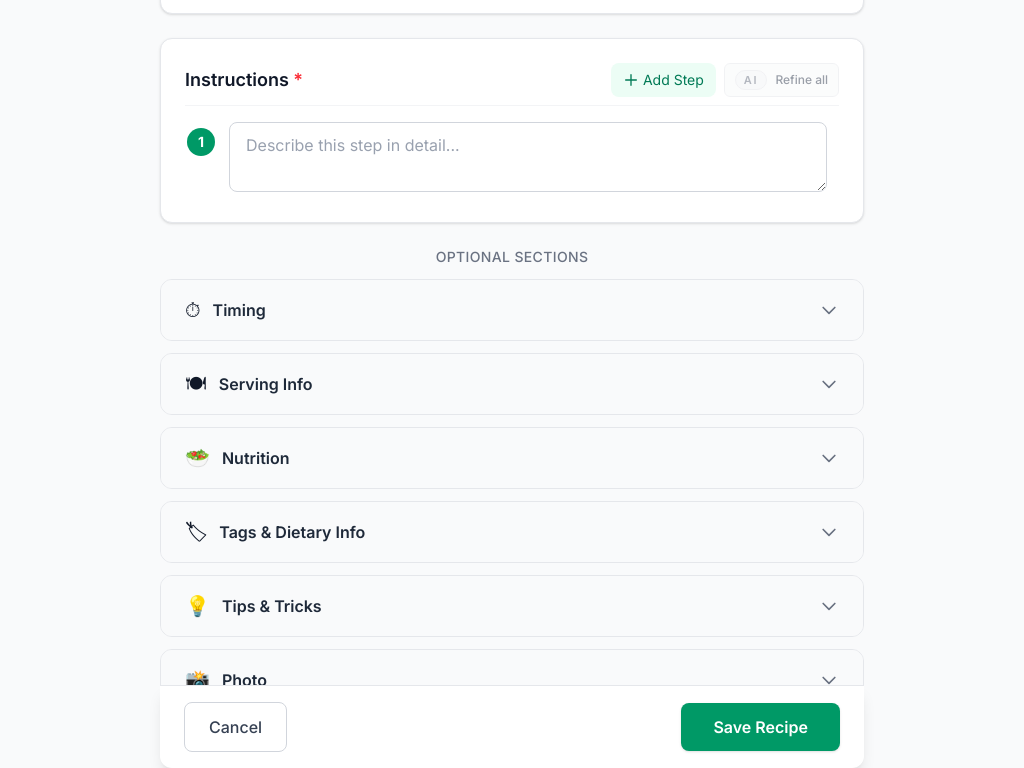
Test case: SimpleCreateRecipe › expands Serving Info section when clicked
The image size is (1024, 768).
(page scrolled)
Click the button "🍽 Serving Info".
click(266, 384)  # box 161,354 -> 863,414
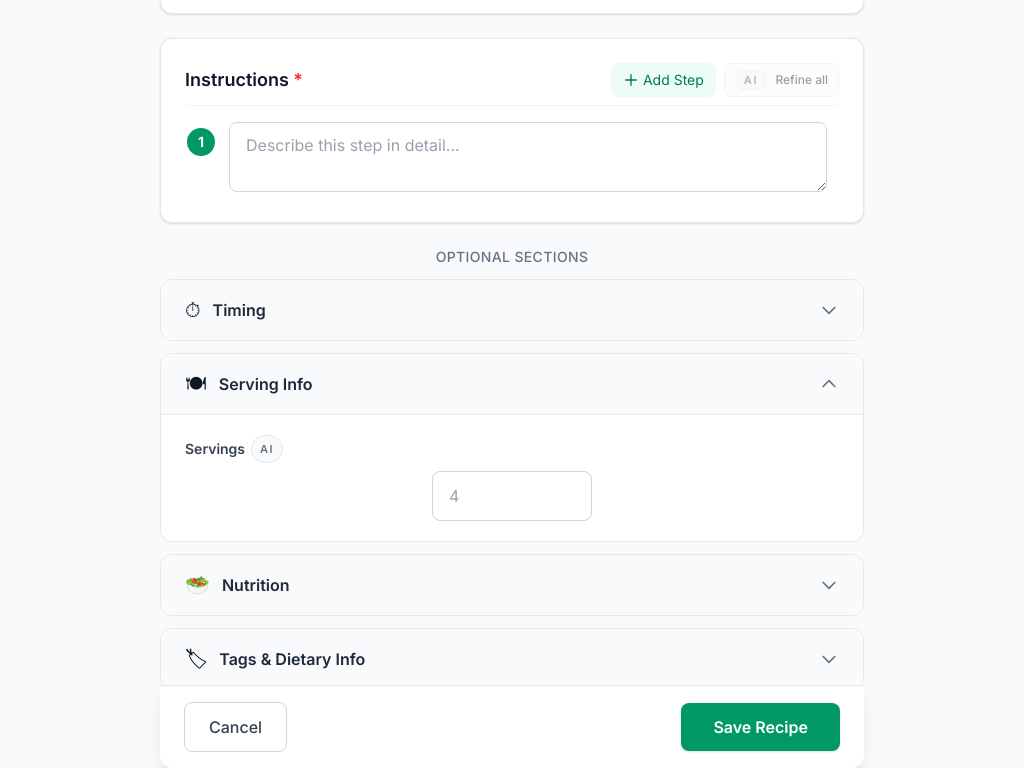
Result: the number field labelled "Servings" is shown at 432,471 -> 592,521
